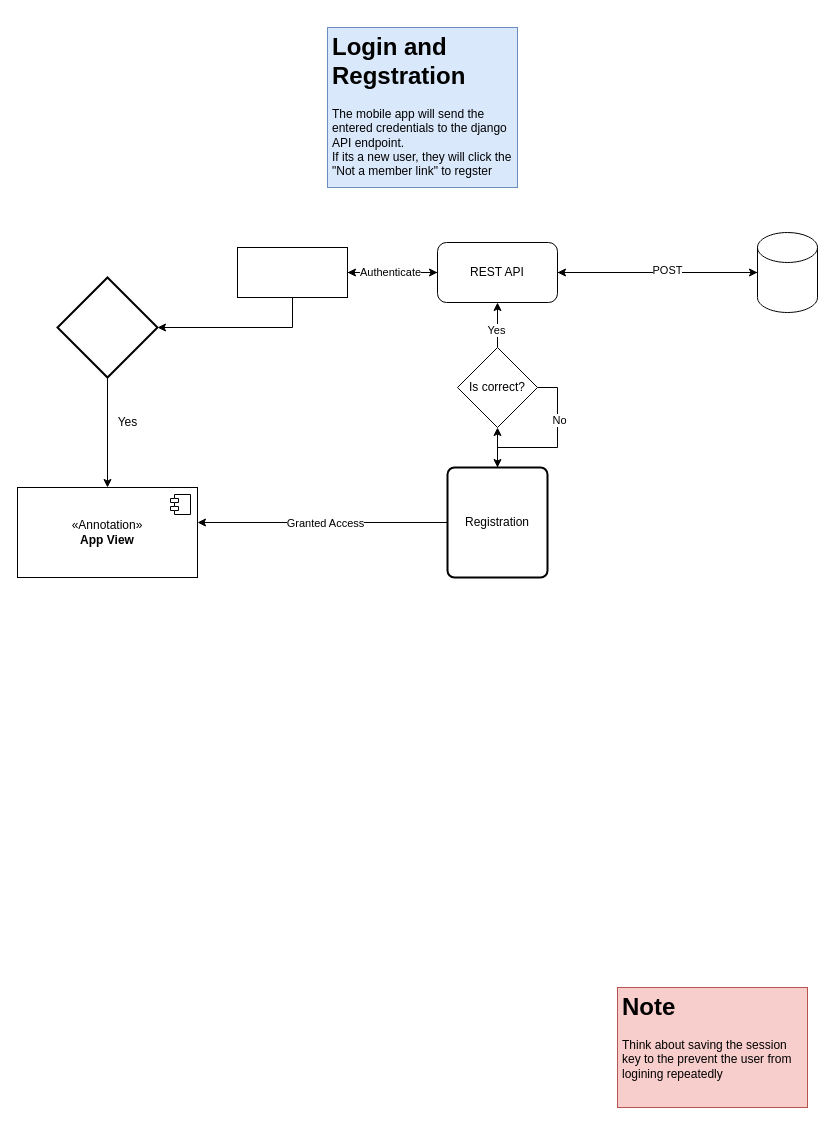
Some shapes in this 835 by 1125 pixel diagram are drawn without their labels. The shapes that lost their labels are listed below. From the top down, each one's box as (x1, y1, x2, y2) in pixels, then its label:
(236, 246, 348, 298): Login Page
(756, 232, 818, 312): Django
(56, 276, 158, 378): is user?
